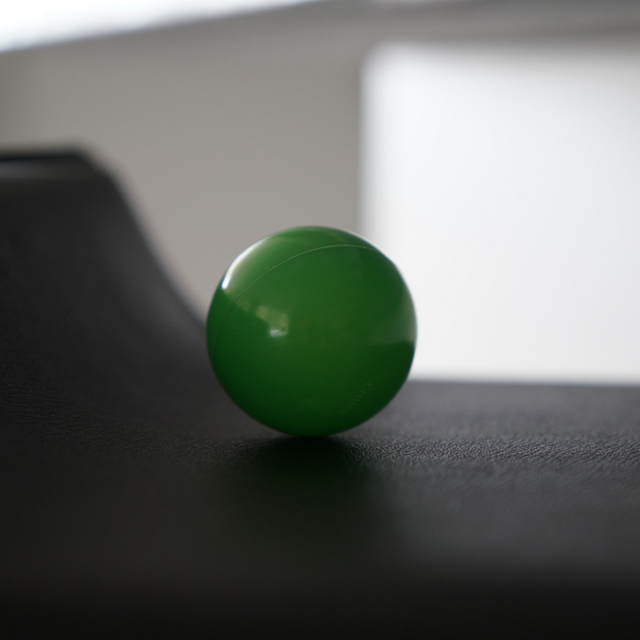Ball: (207, 221, 420, 436)
